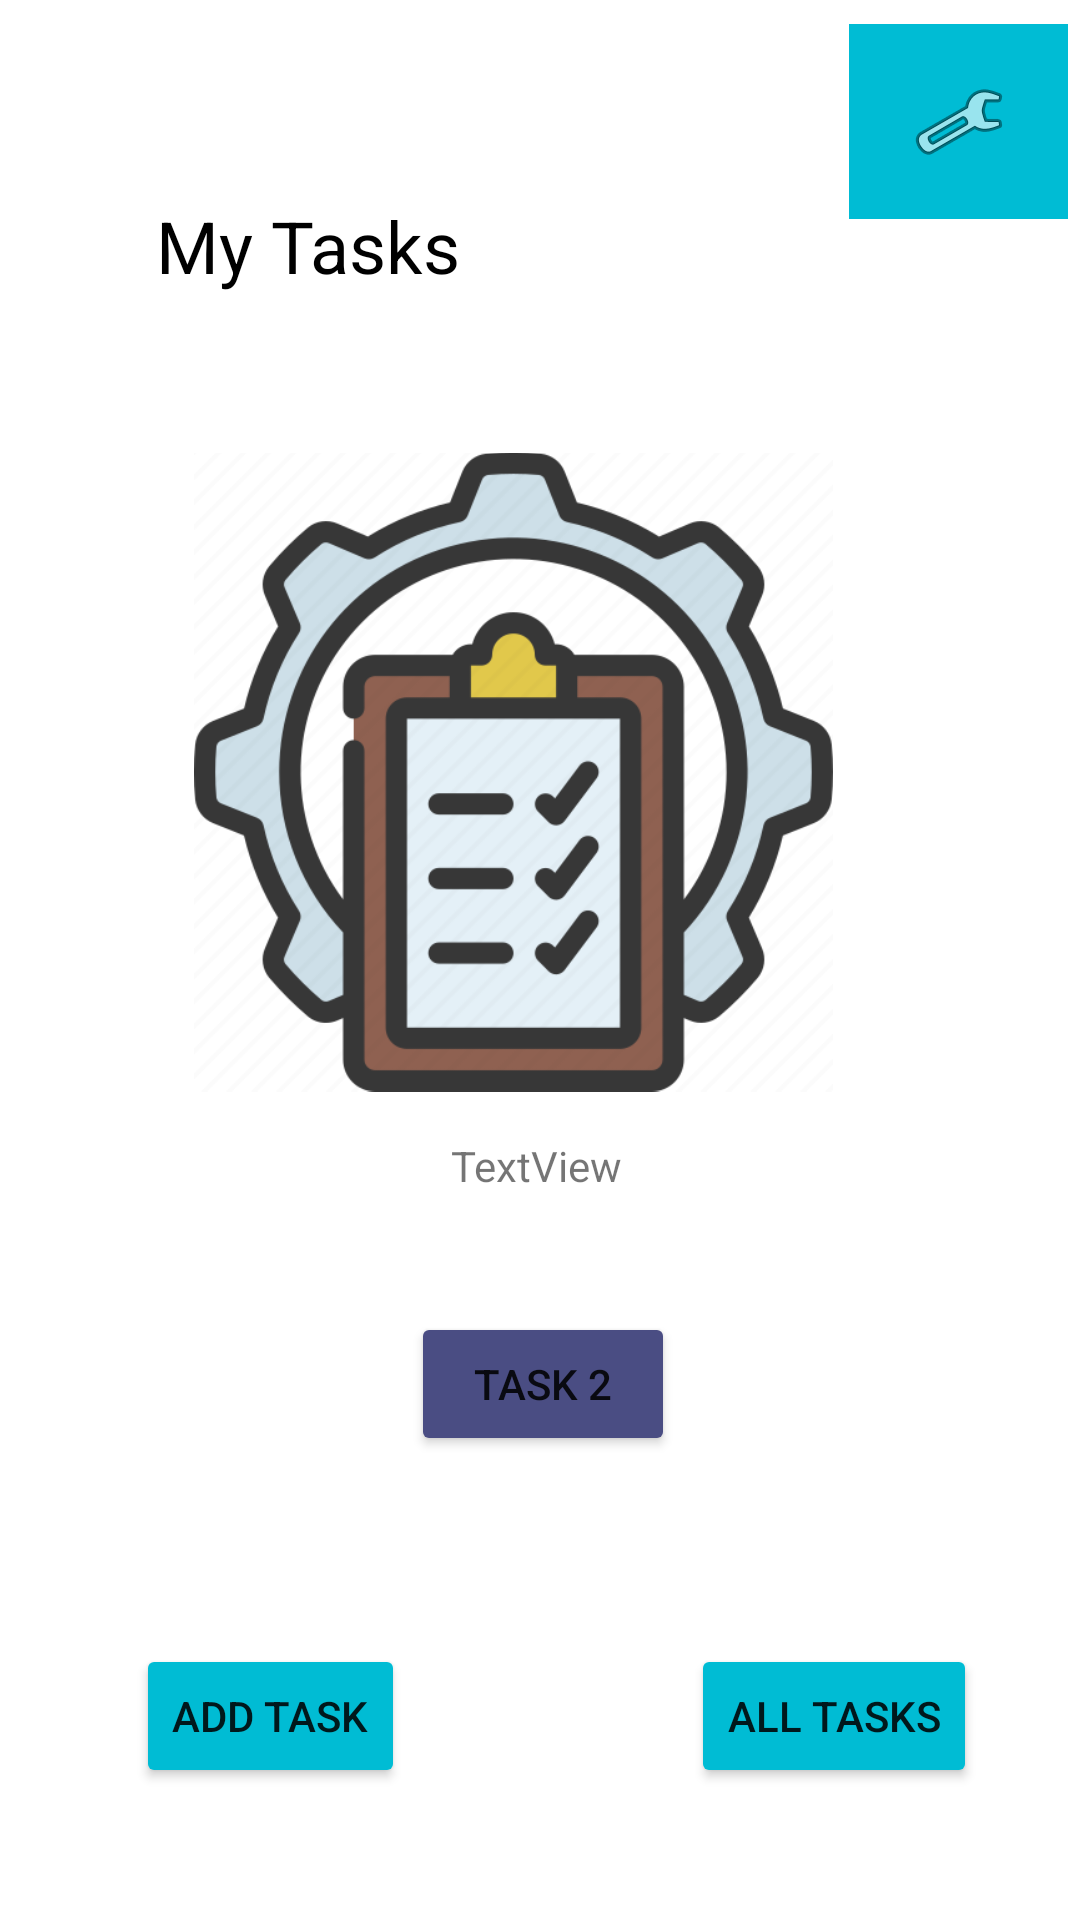

Icons on this 1080w x 1920h Android screen, each with the point to tap as point (x, y):
manage: point (958, 121)
